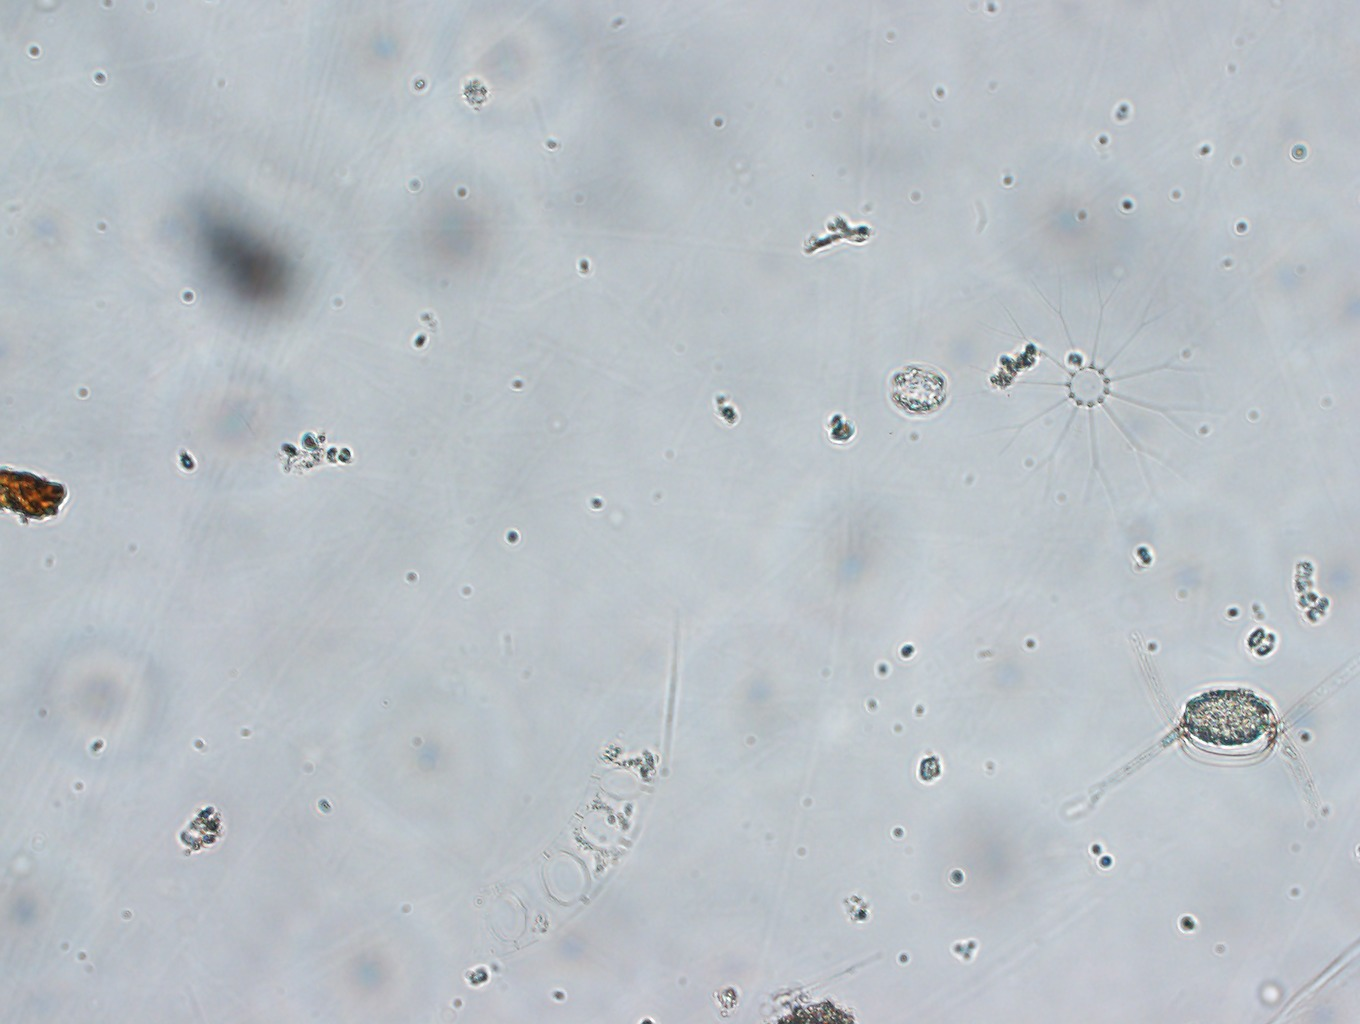bacteriastrum: (969, 267, 1218, 529)
chaetoceros: (1062, 598, 1359, 841)
eucampia: (459, 726, 661, 970)
